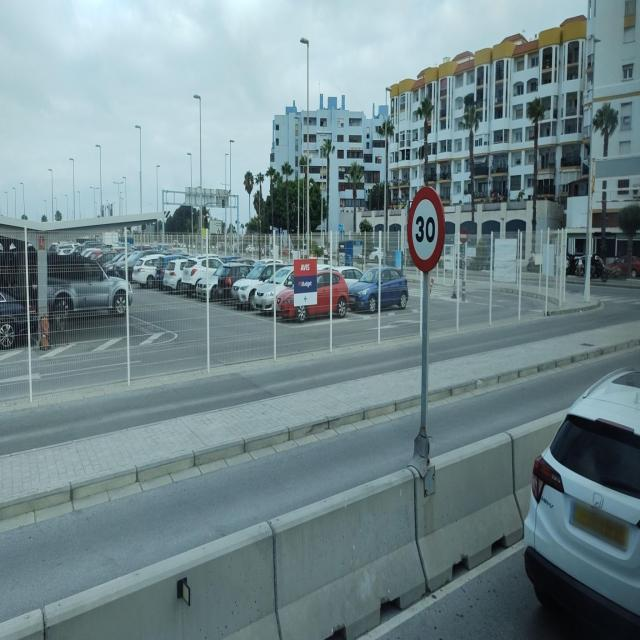car: (522, 354, 640, 640), (49, 258, 134, 314), (349, 264, 409, 313), (230, 257, 284, 311), (252, 265, 293, 314), (196, 262, 245, 302), (178, 254, 222, 296), (316, 267, 349, 318), (131, 256, 167, 290), (162, 258, 195, 294), (576, 252, 608, 281), (110, 250, 144, 276), (616, 255, 640, 279), (566, 253, 584, 276)
